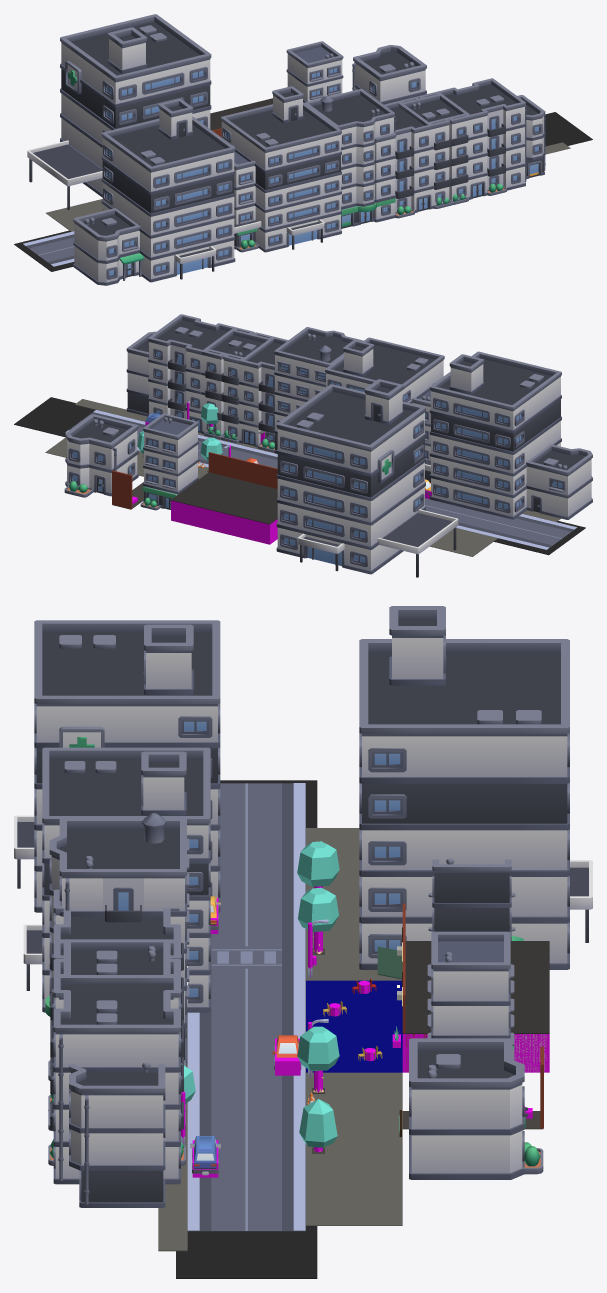
File: suvaco.glb
3 views of the same model, one above another, from view 1: azimuth 30°, elevation 25°; view 2: azimuth 150°, elevation 25°; view 3: azimuth 270°, elevation 25° (orthographic). The views are drawn at different scales.
Visible parts, largest first — view 1: OCC_KEN_building-n_47, OCC_KEN_building-n_23, OCC_KEN_building-n_49, OCC_KEN_building-j_52, OCC_KEN_building-j_51, OCC_KEN_building-l_50, OCC_KEN_building-e_46, OCC_KEN_building-c_25, OCC_KEN_building-f_24, OCC_KEN_building-f_48, GROUND_under, OCC_KEN_building-a_53 (+3 smaller); view 2: OCC_KEN_building-n_23, OCC_KEN_building-n_47, OCC_KEN_building-j_52, OCC_KEN_building-j_51, OCC_KEN_building-c_25, OCC_KEN_building-n_49, static_colormap_roads, OCC_KEN_building-f_24, OCC_KEN_building-l_50, OCC_KEN_building-e_46, OCC_ceiling, GROUND_under (+8 smaller); view 3: OCC_KEN_building-n_23, static_colormap_roads, OCC_KEN_building-n_47, OCC_KEN_building-n_49, OCC_KEN_building-j_52, OCC_KEN_building-c_25, OCC_KEN_building-l_50, FLOOR_sidewalk1, OCC_KEN_building-a_53, OCC_KEN_building-f_24, GROUND_under, OCC_KEN_building-j_51 (+11 smaller).
Part boxes in pixels (x1,y1,x2,y2): OCC_KEN_building-n_47: (101, 99, 261, 282); OCC_KEN_building-n_23: (27, 14, 211, 209); OCC_KEN_building-n_49: (221, 86, 341, 252); OCC_KEN_building-j_52: (397, 78, 526, 208); OCC_KEN_building-j_51: (374, 91, 471, 222); OCC_KEN_building-l_50: (304, 89, 395, 229); OCC_KEN_building-e_46: (73, 208, 143, 285); OCC_KEN_building-c_25: (352, 45, 426, 104); OCC_KEN_building-f_24: (286, 41, 343, 102); OCC_KEN_building-f_48: (232, 145, 258, 252); GROUND_under: (14, 112, 592, 271); OCC_KEN_building-a_53: (517, 95, 545, 179); OCC_KEN_building-n_23: (276, 379, 458, 577); OCC_KEN_building-n_47: (425, 351, 561, 519); OCC_KEN_building-j_52: (148, 314, 274, 440); OCC_KEN_building-j_51: (202, 327, 288, 452); OCC_KEN_building-c_25: (64, 414, 138, 497); OCC_KEN_building-n_49: (325, 337, 444, 403); static_colormap_roads: (65, 401, 577, 549); OCC_KEN_building-f_24: (140, 413, 198, 510); OCC_KEN_building-l_50: (274, 327, 363, 453); OCC_KEN_building-e_46: (526, 444, 592, 519); OCC_ceiling: (171, 472, 277, 524); GROUND_under: (14, 397, 585, 555); OCC_KEN_building-n_23: (359, 606, 592, 969); static_colormap_roads: (181, 783, 528, 1231); OCC_KEN_building-n_47: (14, 620, 220, 912); OCC_KEN_building-n_49: (23, 747, 210, 1012); OCC_KEN_building-j_52: (48, 939, 185, 1184); OCC_KEN_building-c_25: (409, 1038, 543, 1179); OCC_KEN_building-l_50: (45, 813, 189, 1064); FLOOR_sidewalk1: (306, 1072, 402, 1225); OCC_KEN_building-a_53: (69, 1063, 165, 1207); OCC_KEN_building-f_24: (427, 931, 514, 1059); GROUND_under: (176, 780, 317, 1278); OCC_KEN_building-j_51: (48, 889, 185, 1110).
Size of the model in its own units: 100 by 27.4 by 49.2.
Materials: 59 (3 with a texture image).
